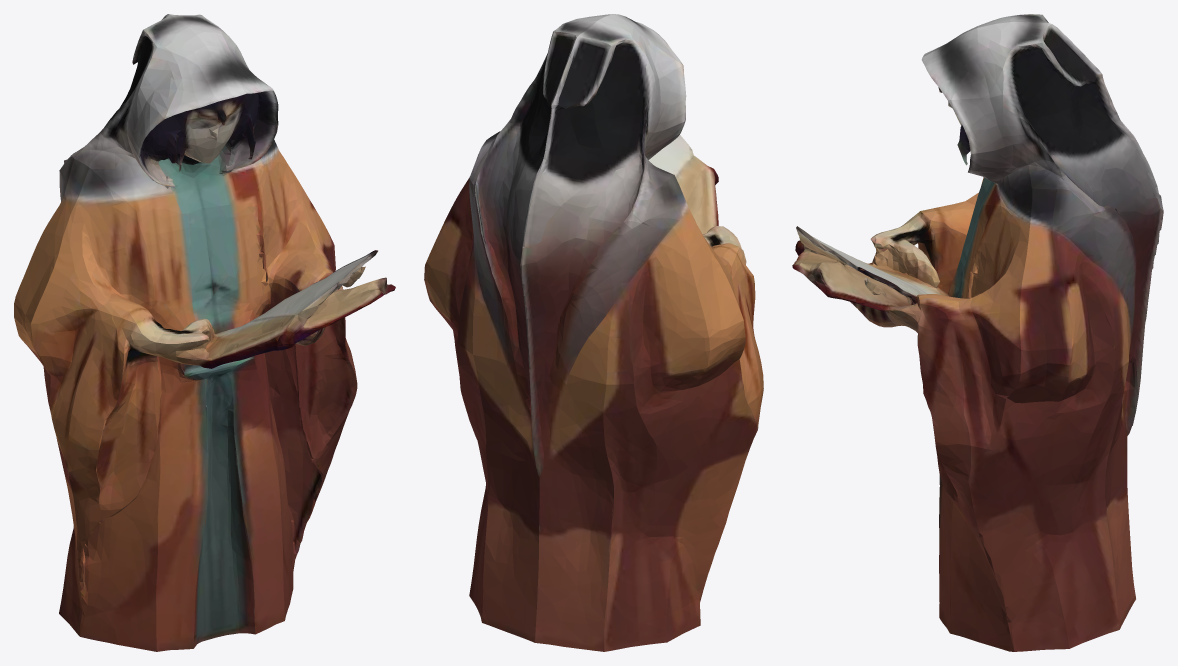
Rendered from anime_modern_scholar.glb.
3 renders of one model, left to right at view 1: azimuth 30°, elevation 25°; view 2: azimuth 150°, elevation 25°; view 3: azimuth 270°, elevation 25°, orthographic.
Parts seen in each view (by area): view 1: geometry_0; view 2: geometry_0; view 3: geometry_0.
Boxes of the visible parts, x1=… form: geometry_0: x1=14, y1=14, x2=395, y2=651; geometry_0: x1=424, y1=14, x2=763, y2=651; geometry_0: x1=792, y1=14, x2=1163, y2=651.
Bounding box in the file's own units: 0.5425 × 0.9999 × 0.5783.
Materials: 1 (1 with a texture image).
